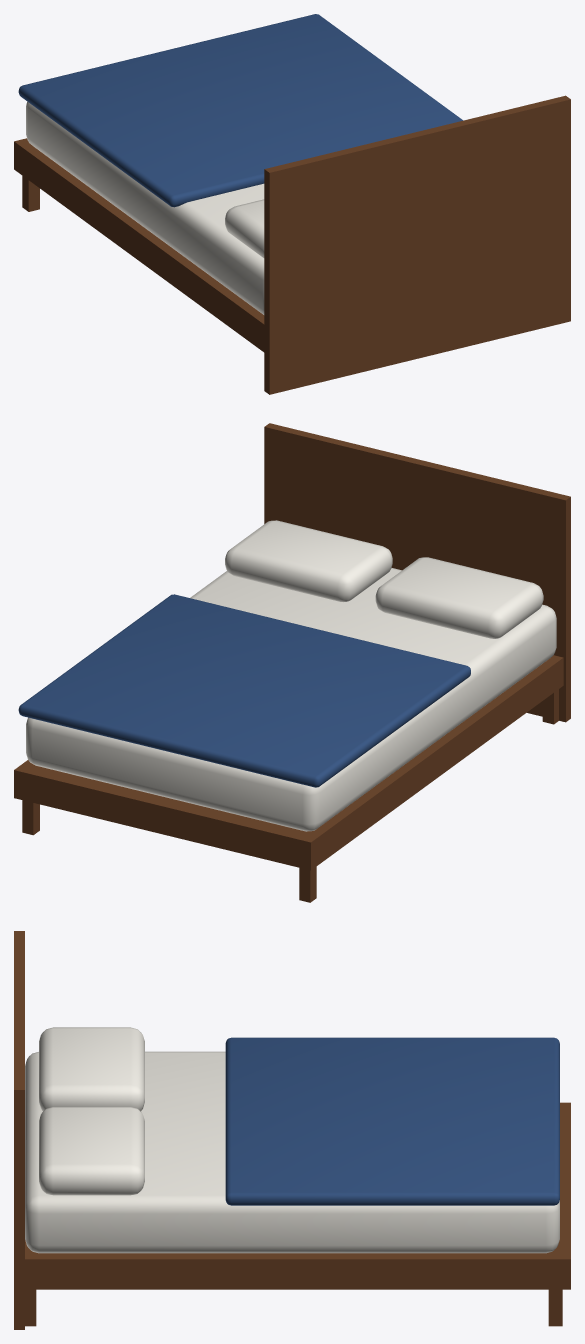
Rendered from fixture.bed_double.glb.
3 views of the same model, one above another, from view 1: azimuth 30°, elevation 25°; view 2: azimuth 150°, elevation 25°; view 3: azimuth 270°, elevation 25° (orthographic). The views are drawn at different scales.
Parts seen in each view (by area): view 1: frame__hardwood, soft__fabric_blue, soft__fabric_white; view 2: frame__hardwood, soft__fabric_white, soft__fabric_blue; view 3: soft__fabric_white, soft__fabric_blue, frame__hardwood.
Boxes of the visible parts, box(x1,y1,x2,y2) form: frame__hardwood: box(14, 95, 570, 394); soft__fabric_blue: box(18, 14, 463, 207); soft__fabric_white: box(26, 101, 264, 314); frame__hardwood: box(14, 423, 570, 902); soft__fabric_white: box(26, 520, 556, 831); soft__fabric_blue: box(18, 594, 470, 787); soft__fabric_white: box(25, 1027, 559, 1253); soft__fabric_blue: box(225, 1037, 559, 1205); frame__hardwood: box(14, 931, 570, 1329).
Bounding box in the file's own units: 1.35 × 0.95 × 2.
